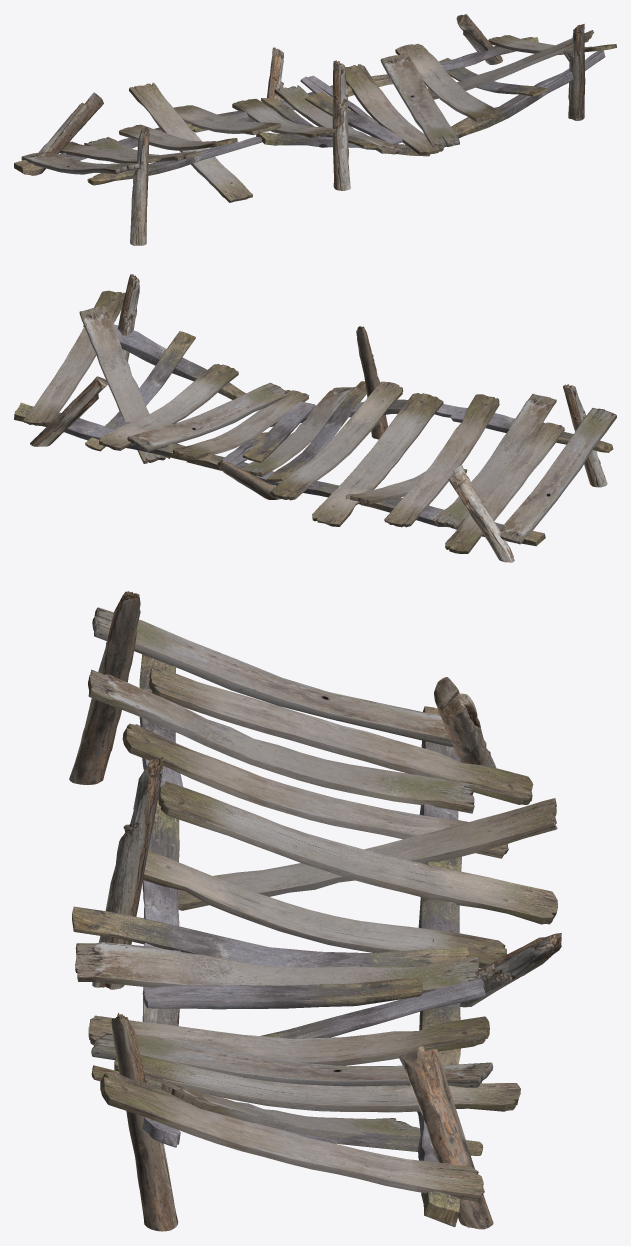
The model's file is SM_WoodPlank_01_17_bridge.fbx.
The picture shows the model from 3 angles, top to bottom: view 1: azimuth 30°, elevation 25°; view 2: azimuth 150°, elevation 25°; view 3: azimuth 270°, elevation 25°; orthographic projection. The views are drawn at different scales.
Parts seen in each view (by area): view 1: sm_WoodPlank_01_17_bridge_LOD0; view 2: sm_WoodPlank_01_17_bridge_LOD0; view 3: sm_WoodPlank_01_17_bridge_LOD0.
Part boxes in pixels (x1,y1,x2,y2): sm_WoodPlank_01_17_bridge_LOD0: [14, 14, 616, 245]; sm_WoodPlank_01_17_bridge_LOD0: [14, 274, 616, 562]; sm_WoodPlank_01_17_bridge_LOD0: [69, 591, 561, 1231].
Bounding box in the file's own units: 183 × 444 × 98.91.
